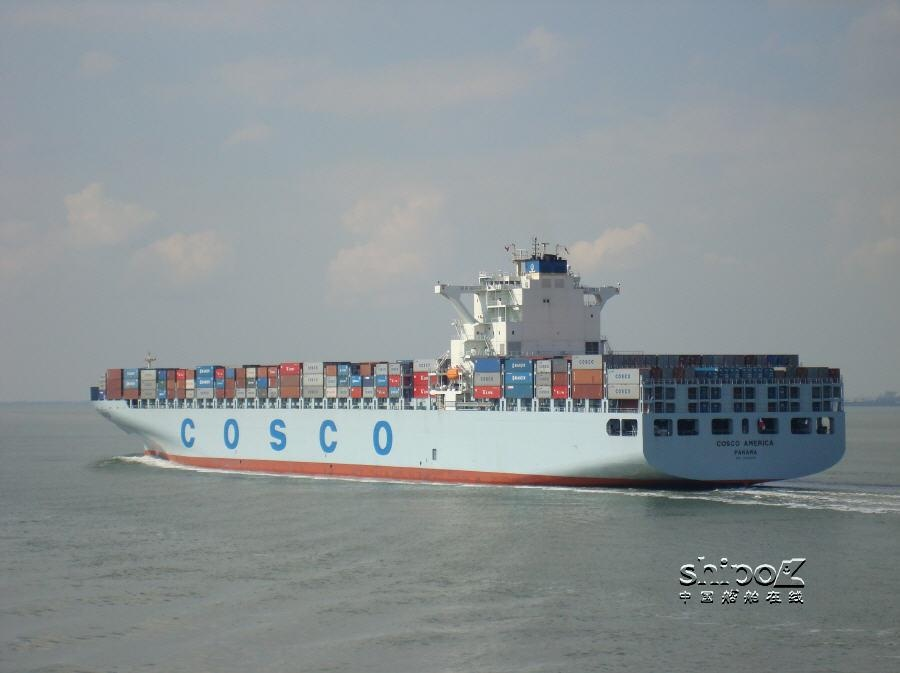Cargoship: (77, 227, 851, 494)
